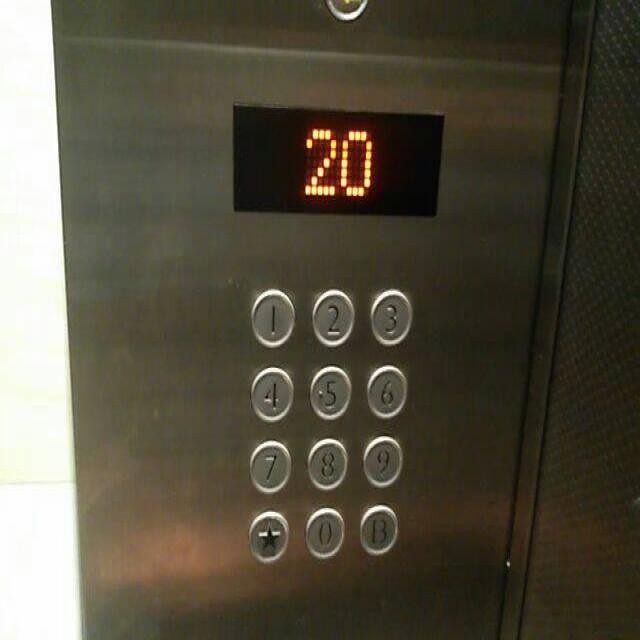0: (303, 502, 345, 558)
1: (249, 286, 296, 350)
2: (309, 285, 355, 348)
3: (367, 284, 413, 348)
4: (249, 364, 294, 424)
5: (308, 363, 351, 421)
6: (365, 361, 407, 419)
7: (248, 437, 292, 495)
8: (305, 435, 347, 489)
9: (360, 431, 403, 488)
B: (357, 500, 397, 556)
led: (231, 100, 443, 219)
s: (246, 507, 289, 564)
